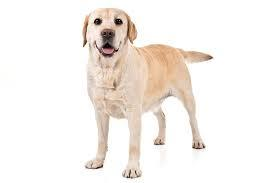dog: (80, 6, 213, 177)
